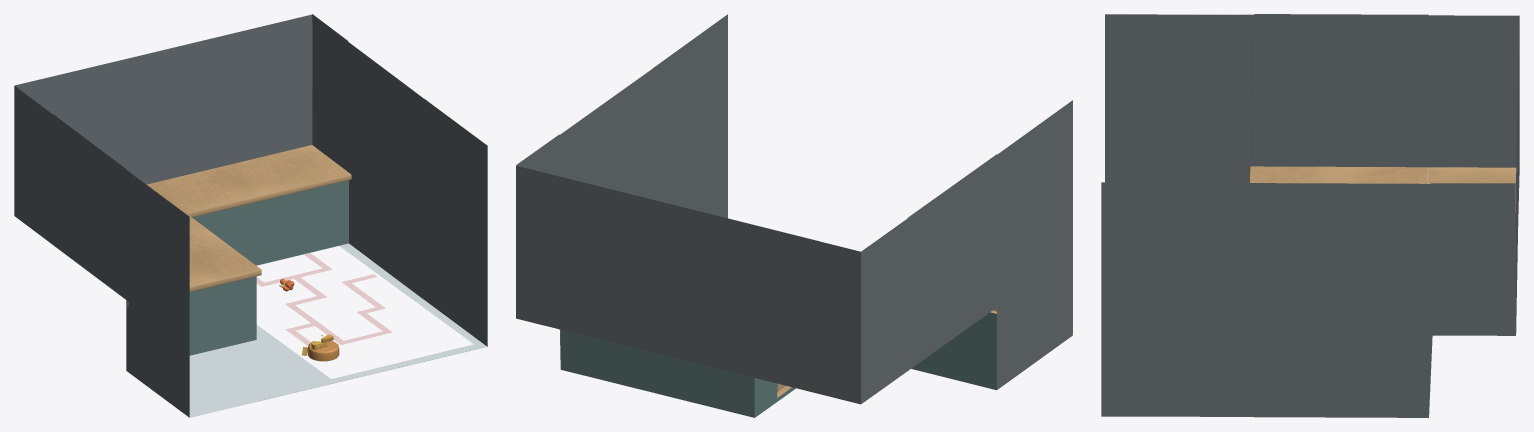
3 renders of one model, left to right at view 1: azimuth 30°, elevation 25°; view 2: azimuth 150°, elevation 25°; view 3: azimuth 270°, elevation 25°, orthographic. The views are drawn at different scales.
Visible parts, largest first — view 1: BG_Kitchen_Table_Thing1, Path_Lvl6, Cheese_Roll; view 2: BG_Kitchen_Table_Thing1; view 3: BG_Kitchen_Table_Thing1.
Boxes of the visible parts, <box> form: BG_Kitchen_Table_Thing1: <box>14,14,487,417</box>; Path_Lvl6: <box>256,253,392,345</box>; Cheese_Roll: <box>307,341,339,361</box>; BG_Kitchen_Table_Thing1: <box>516,14,1072,417</box>; BG_Kitchen_Table_Thing1: <box>1101,14,1519,417</box>.
Size of what is drawn, in the model's own units: 92.3 by 59.76 by 96.1.
